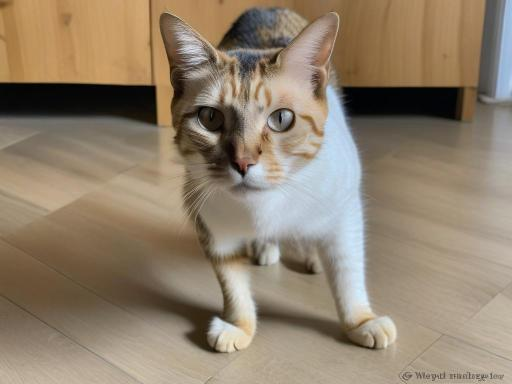cat_standing: (160, 8, 396, 352)
